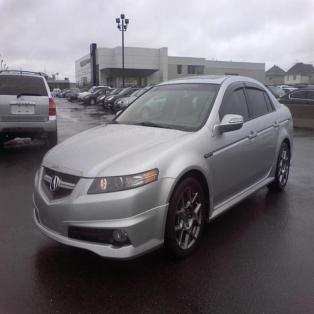Auto: (32, 74, 292, 266)
